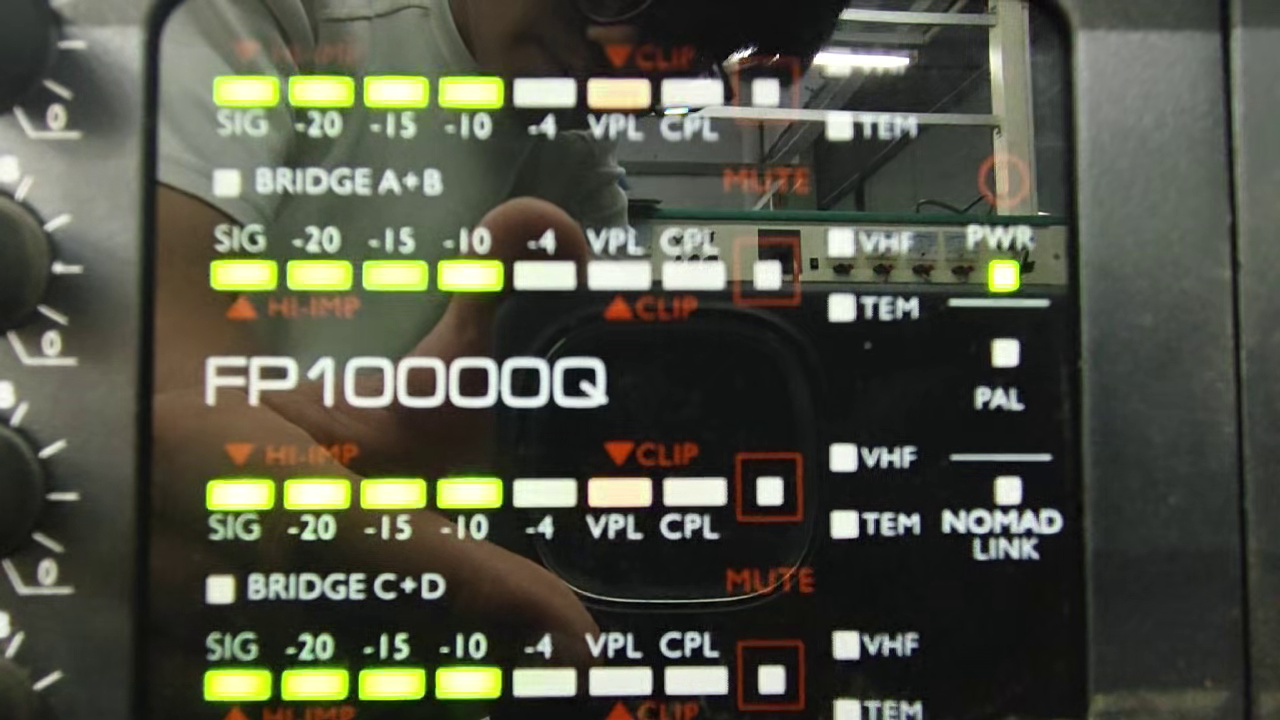FP_CPL: (655, 468, 734, 551), (658, 217, 728, 299), (657, 627, 731, 702), (657, 73, 726, 153)
FP_PWR: (963, 218, 1038, 298)
FP_PWR_area: (949, 154, 1049, 303)
FP_SIG_area: (207, 205, 927, 327), (206, 434, 926, 549), (201, 37, 925, 150), (204, 623, 926, 720)
FP_VPL: (583, 471, 660, 548), (582, 626, 657, 704), (579, 74, 655, 149), (584, 220, 655, 299)
